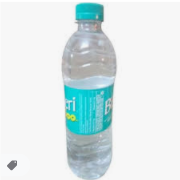Bottle: (63, 2, 113, 179)
